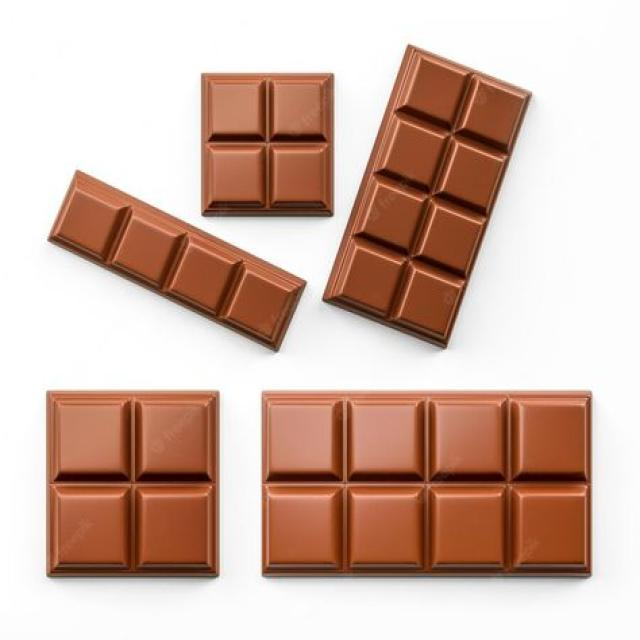Chocolate: (258, 388, 594, 582), (321, 45, 531, 350), (44, 166, 309, 357), (48, 389, 219, 578), (200, 68, 334, 220)
